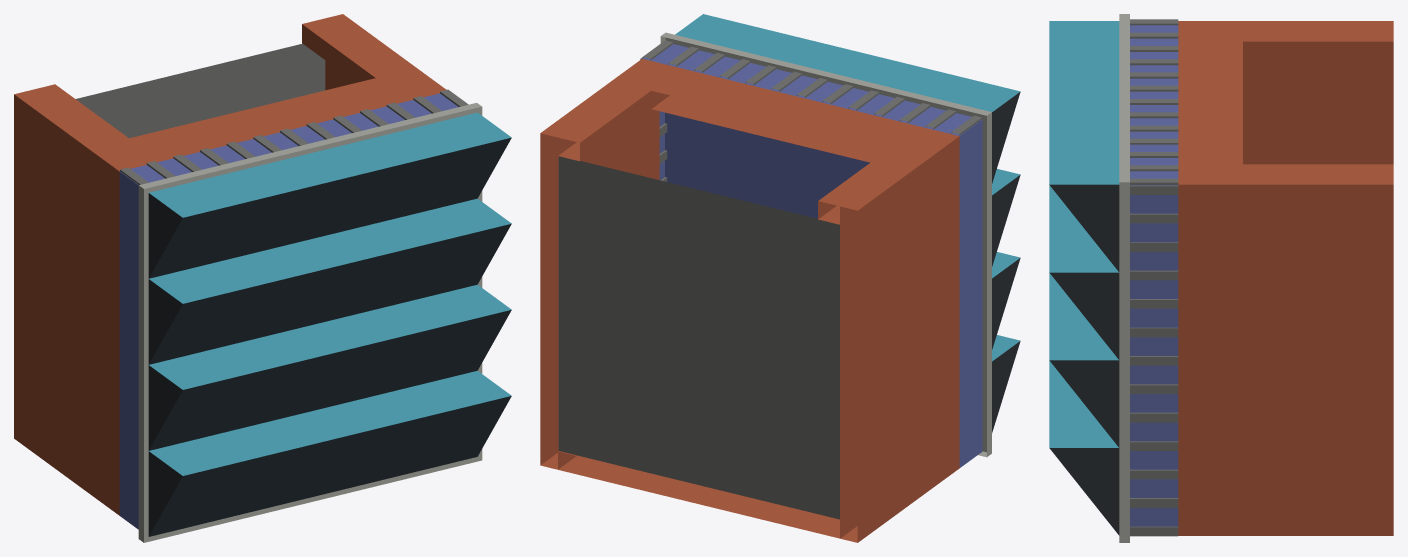
The picture shows the model from 3 angles, left to right: view 1: azimuth 30°, elevation 25°; view 2: azimuth 150°, elevation 25°; view 3: azimuth 270°, elevation 25°; orthographic projection. The views are drawn at different scales.
Visible parts, largest first — view 1: depot_road_default; view 2: depot_road_default; view 3: depot_road_default.
Boxes of the visible parts, x1=… form: depot_road_default: x1=14, y1=14, x2=511, y2=542; depot_road_default: x1=540, y1=14, x2=1020, y2=542; depot_road_default: x1=1049, y1=14, x2=1393, y2=542.
Bounding box in the file's own units: 14.8 × 14.8 × 12.8.
